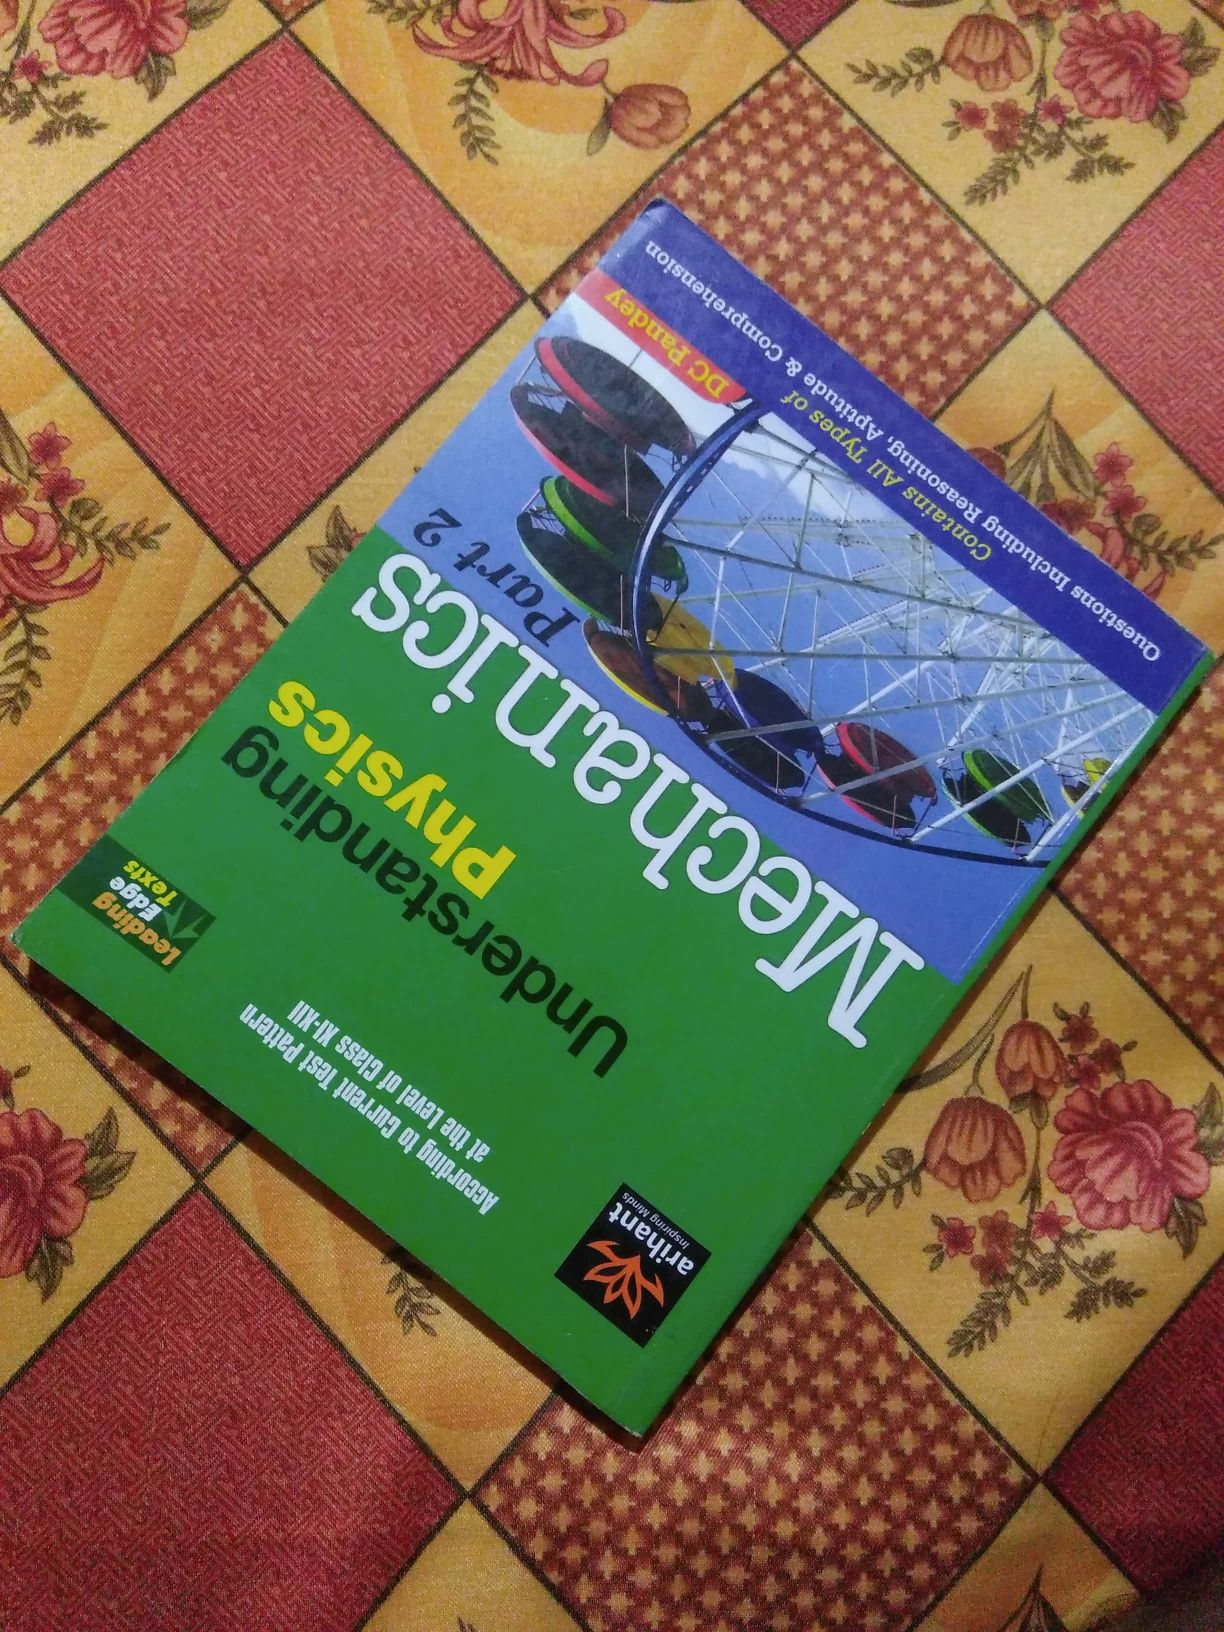mechanics: (58, 180, 1224, 1456)
